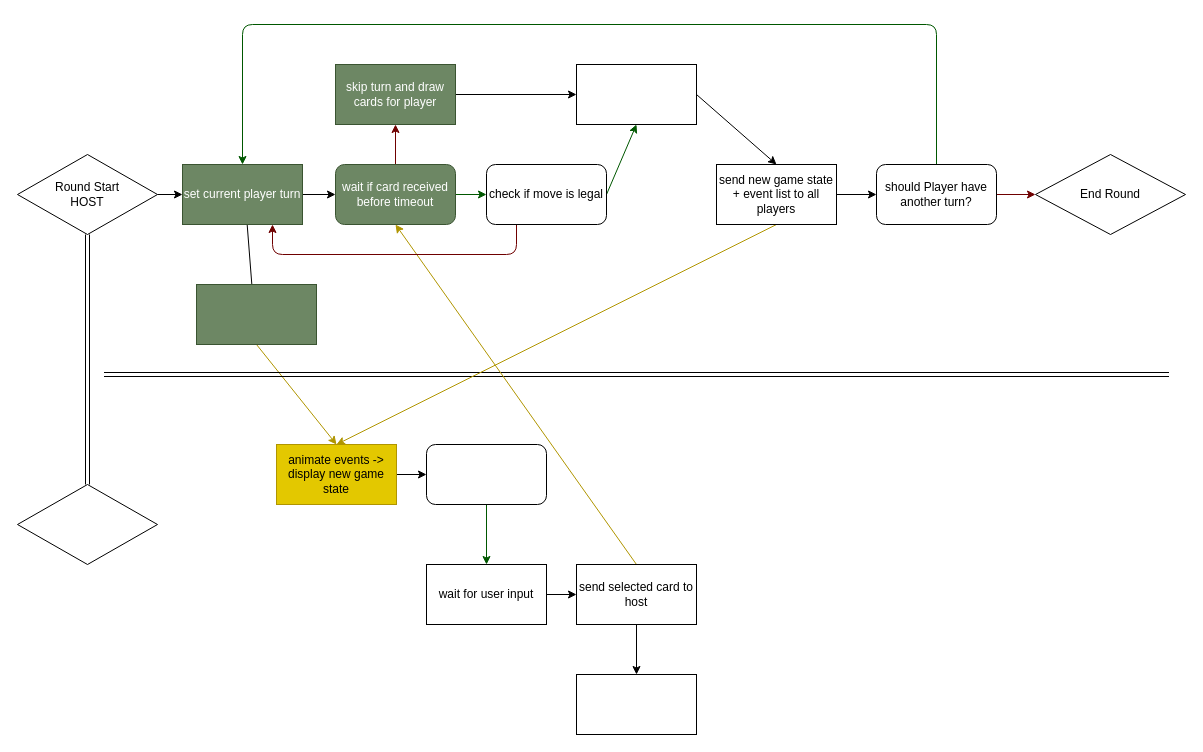
Some shapes in this 1203 by 752 pixel diagram are drawn without their labels. The box of each missing label's shape, as (x1, y1, x2, y2) in pixels:
check for brUNO rule handle card effects (save state) check win conditions: (576, 64, 696, 124)
end turn locally: (576, 674, 696, 734)
is my turn?: (426, 444, 546, 504)
Round Start PLAYER: (16, 484, 158, 564)
send new game state + eventList to all players: (196, 284, 316, 344)
